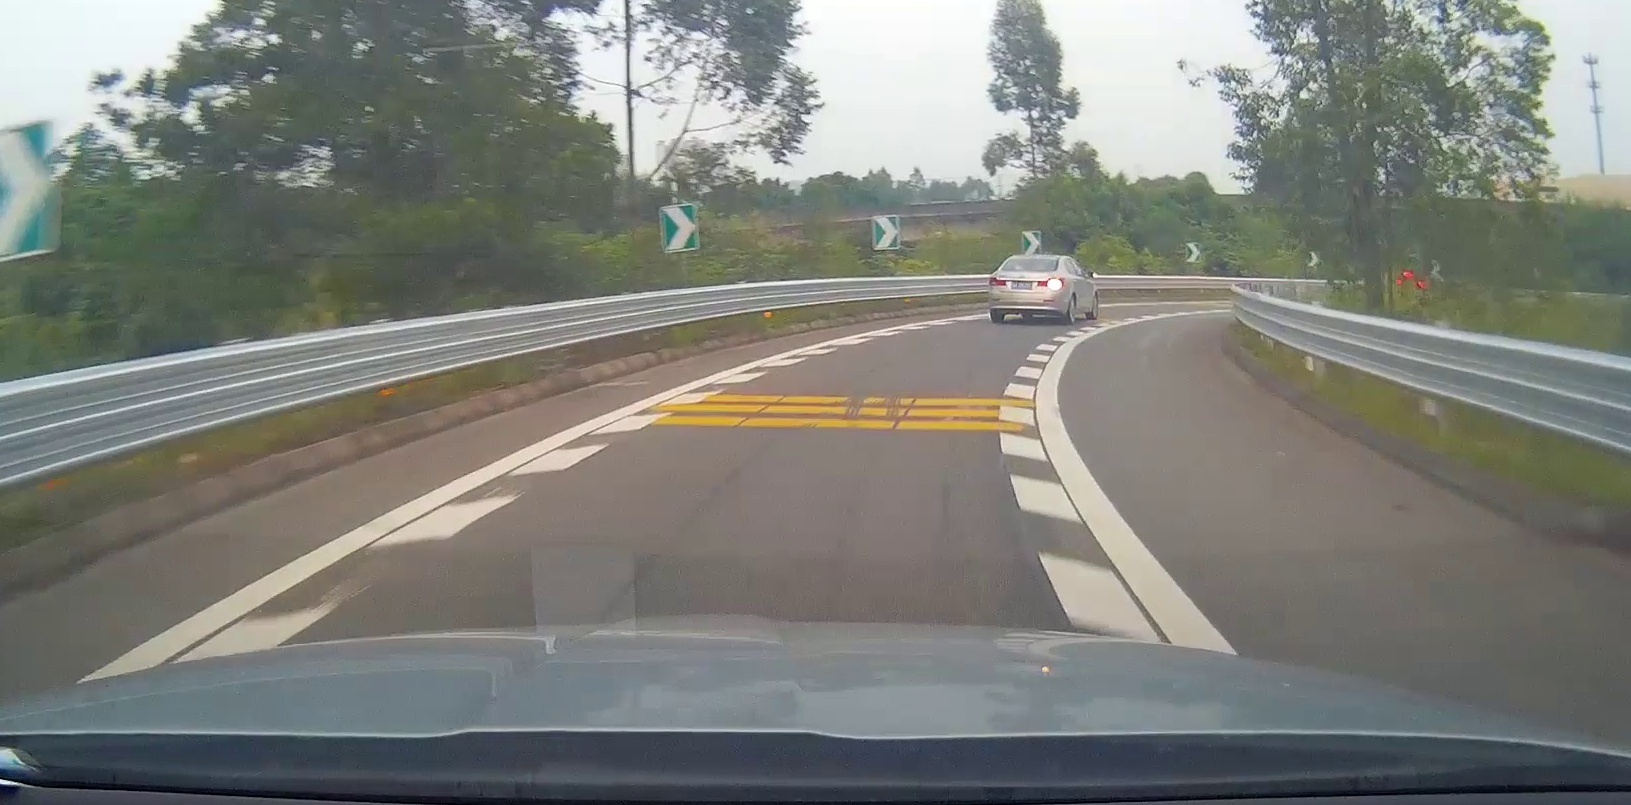L_light: (989, 277, 1006, 286)
R_light: (1037, 277, 1064, 287)
T_light: (1029, 258, 1039, 261)
day-right: (988, 254, 1067, 324)
